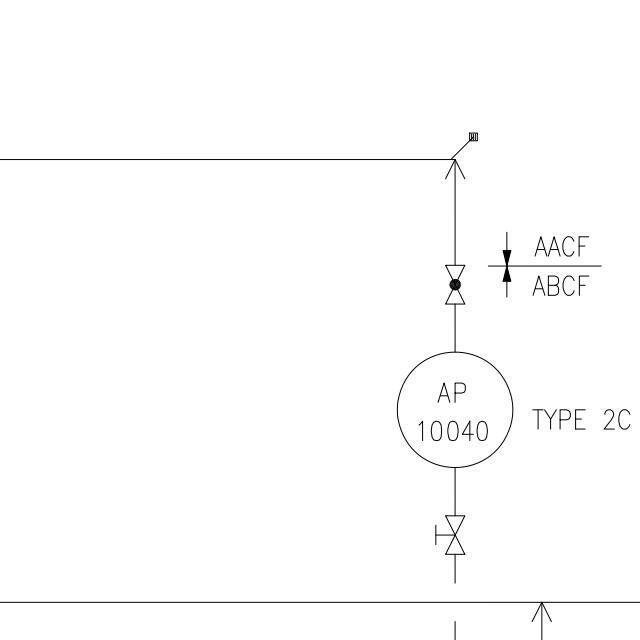BV2: (440, 260, 470, 308)
HV: (425, 508, 469, 559)
